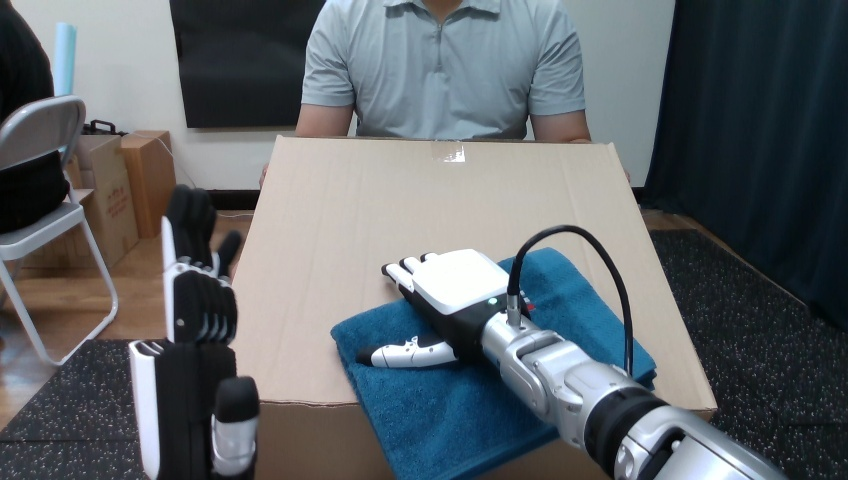left robot hand: (332, 299, 556, 478), (129, 185, 258, 479), (522, 248, 622, 365)
